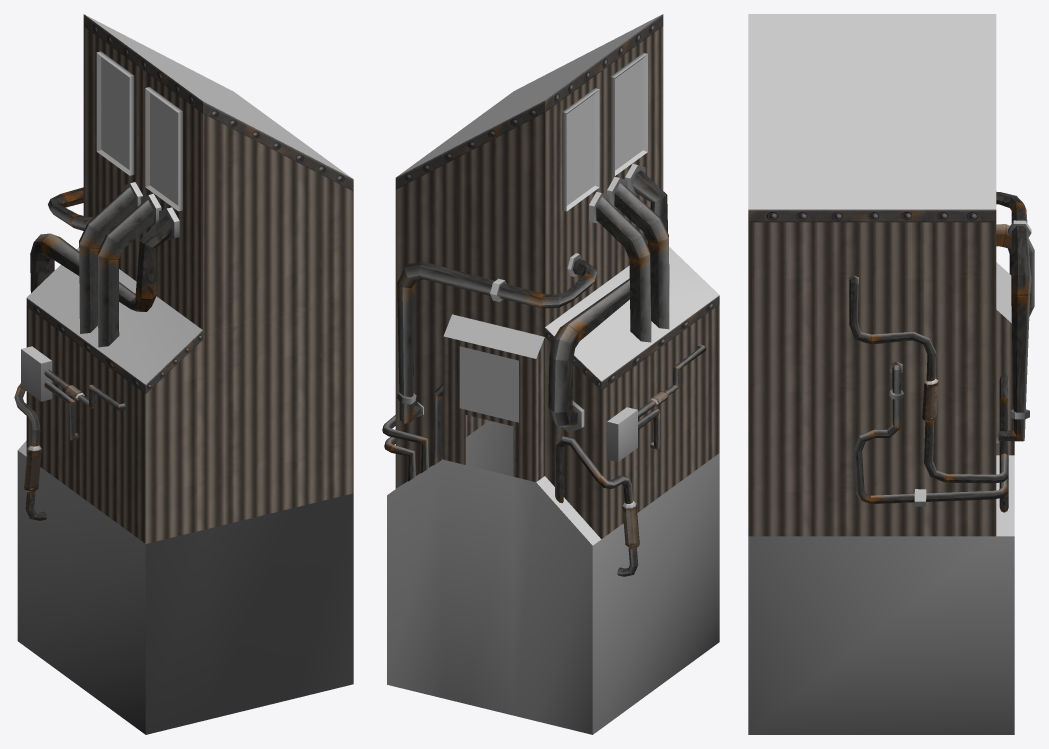
Rendered from factory_entrance_building.fbx.
3 views of the same model, side by side, from view 1: azimuth 30°, elevation 25°; view 2: azimuth 150°, elevation 25°; view 3: azimuth 270°, elevation 25° (orthographic). The views are drawn at different scales.
Parts seen in each view (by area): view 1: building, Pipes; view 2: building, Pipes; view 3: building, Pipes.
Boxes of the visible parts, <box> form: building: <box>17,14,353,734</box>; Pipes: <box>14,182,179,520</box>; building: <box>387,14,719,734</box>; Pipes: <box>382,164,706,576</box>; building: <box>748,14,1014,734</box>; Pipes: <box>848,191,1034,512</box>.
Size of the model in its own units: 2308 by 5616 by 2261.
